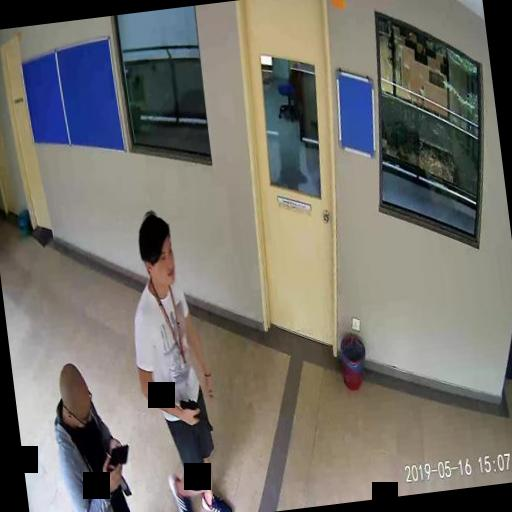Handgun: (179, 396, 212, 433)
